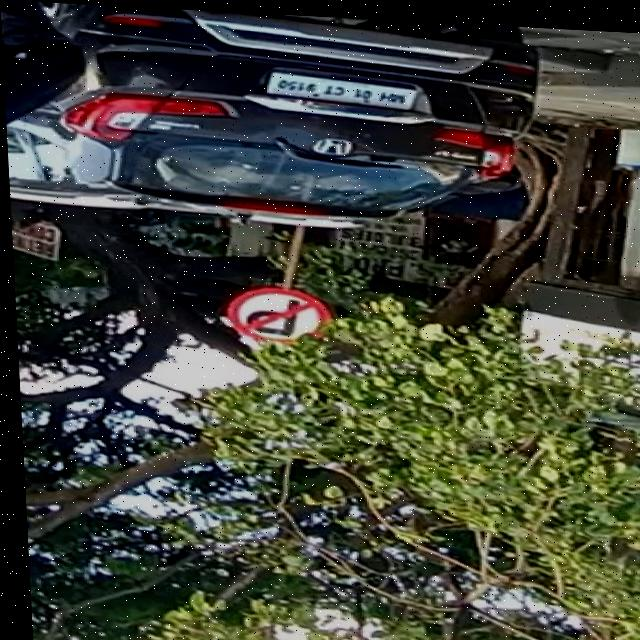plate: (263, 68, 422, 109)
